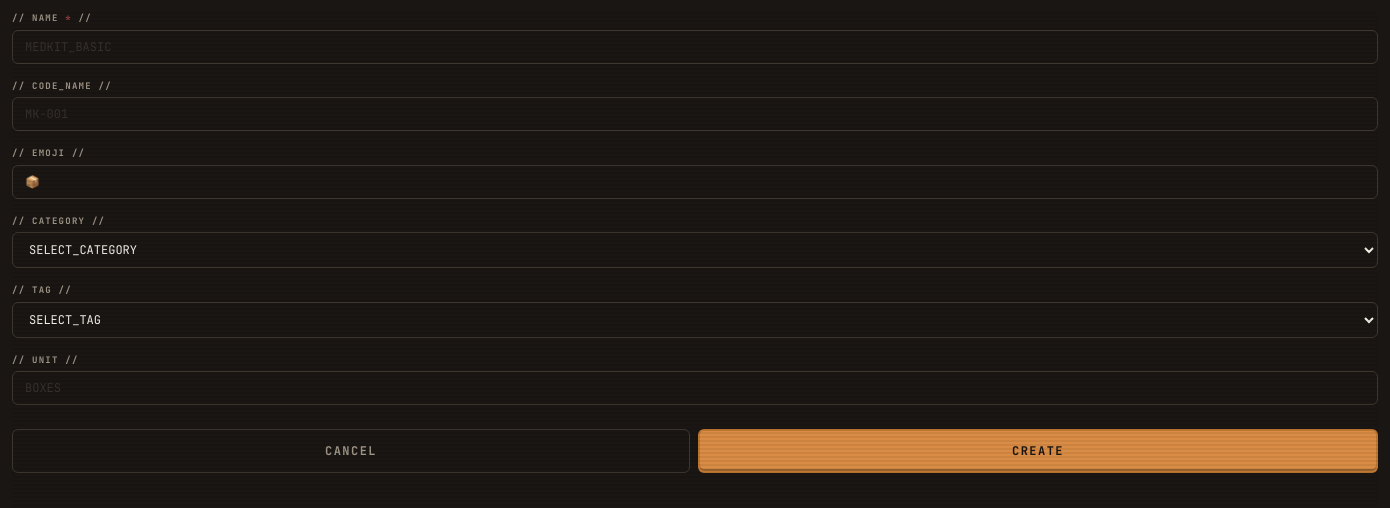
Test case: ItemForm › Name field validates as required › shows validation error when name is empty on submit
Step 1. Type "TEST_CODE" into the field labelled "// CODE_NAME //" → (695, 114), box x1=12 y1=97 x2=1378 y2=131
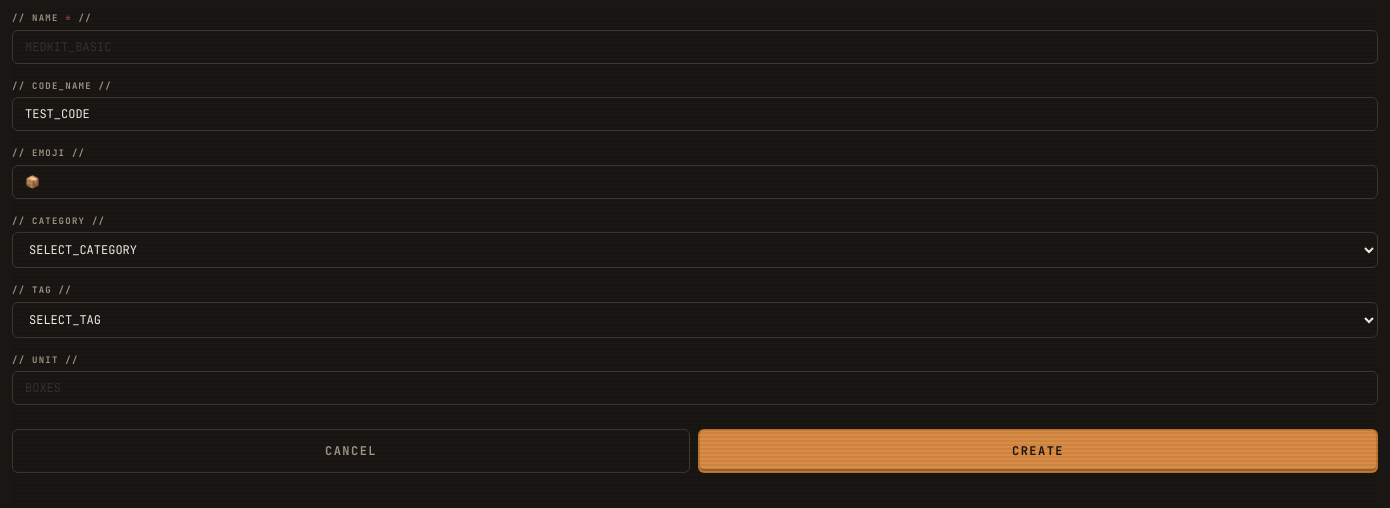
Step 2. Click the button "CREATE" → (1038, 451), box x1=698 y1=429 x2=1378 y2=473
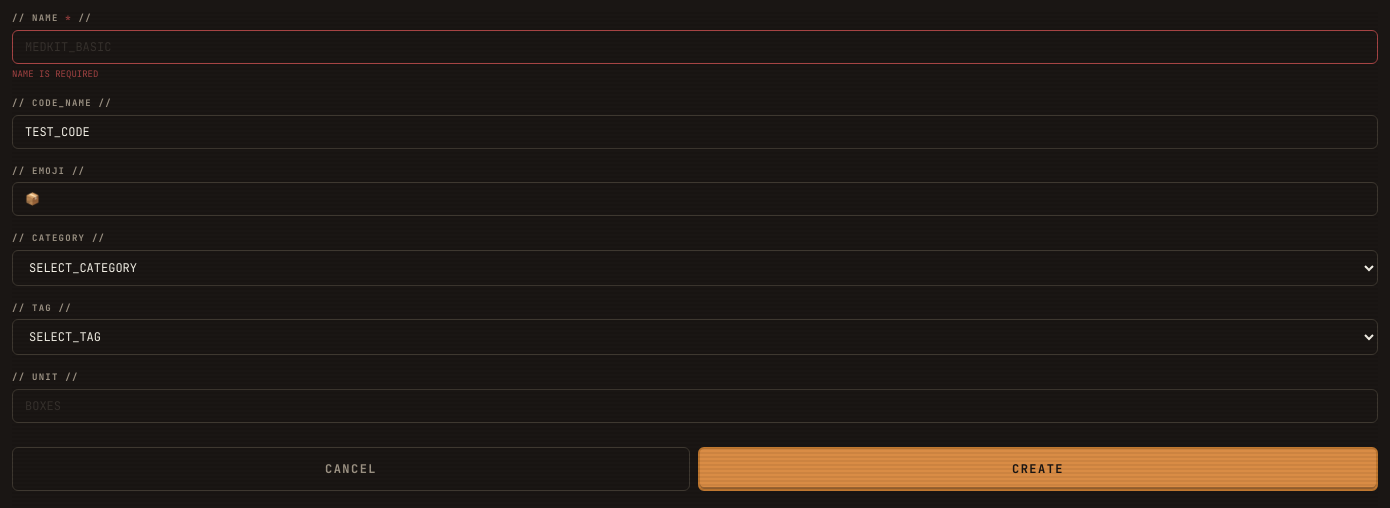
Now the text "NAME IS REQUIRED" is shown, box x1=12 y1=68 x2=98 y2=80
